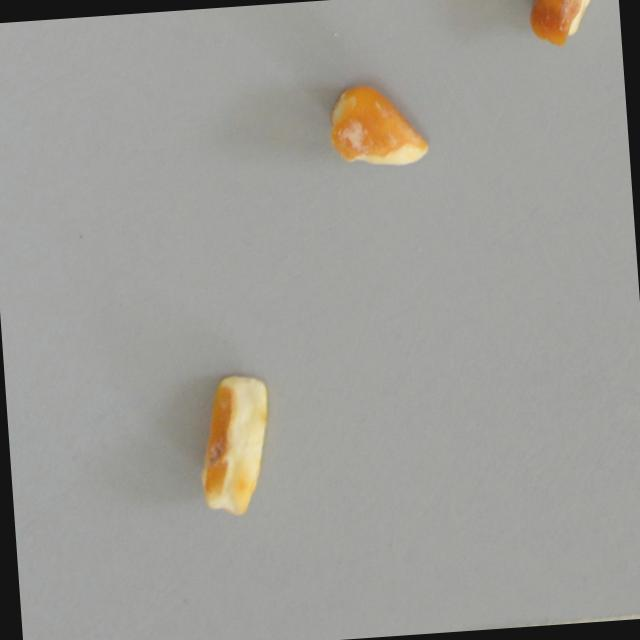dañado: (189, 368, 284, 521), (528, 0, 600, 47)
pelicula: (321, 76, 430, 174)
